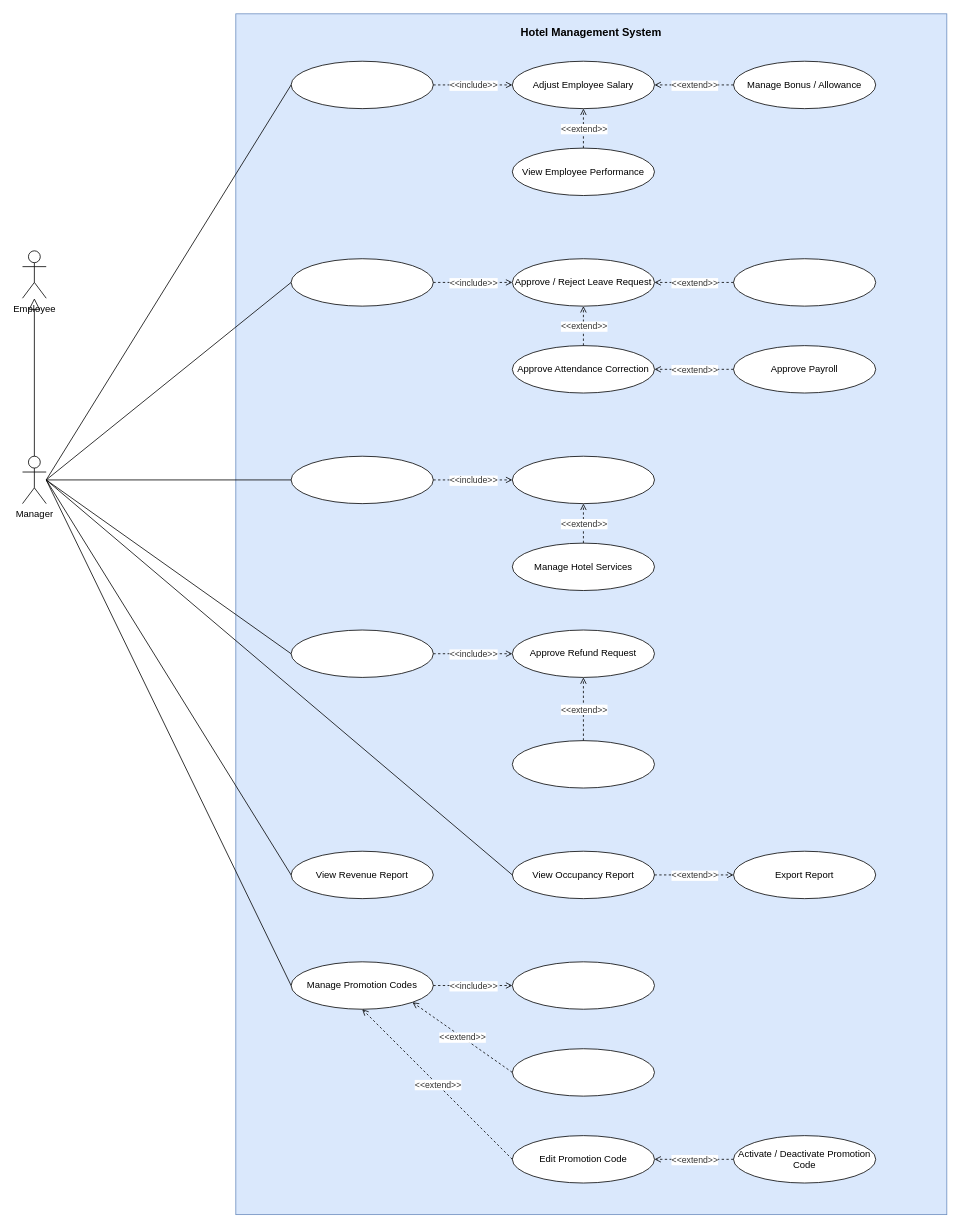
The diagram is 961 pixels wide and 1228 high, and some of its shapes have lost their labels. Here are the shapes that lost their labels. From the top down, the centre of each, then its label:
the point at 361,84: Manage Salary Structure
the point at 361,282: Manage Work Schedule
the point at 804,282: Approve Shift Swap Request
the point at 361,479: Manage Room Inventory
the point at 583,479: Manage Room Type / Pricing
the point at 361,653: Approve Booking Cancellation
the point at 583,764: Moderate Customer Review
the point at 583,985: View Promotion Usage
the point at 583,1072: Create Promotion Code
